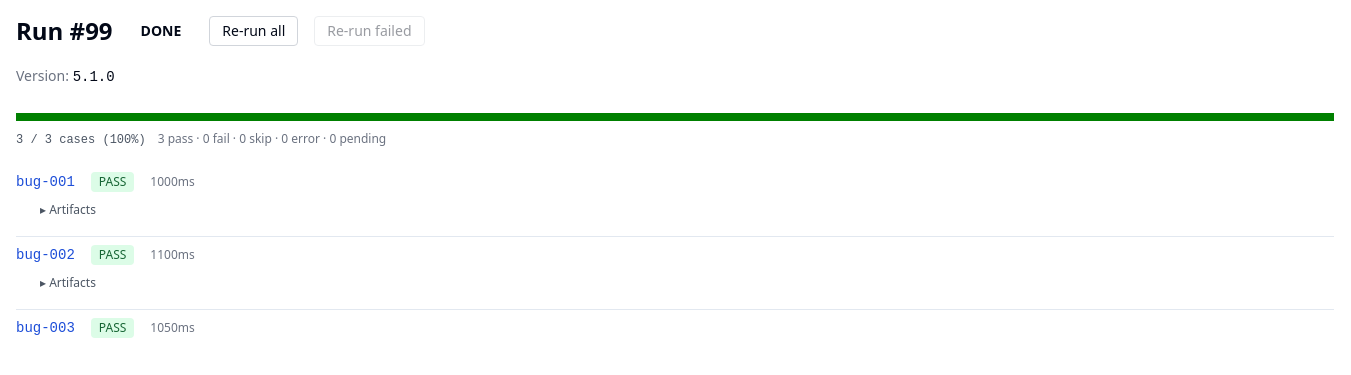
Scenario: RunDetailPage › empty artifacts list renders the empty hint
This screenshot has width=1351, height=375.
Click the button with test id "artifacts-toggle-bug-001" at {"x": 68, "y": 210}, box [40,202,96,218]
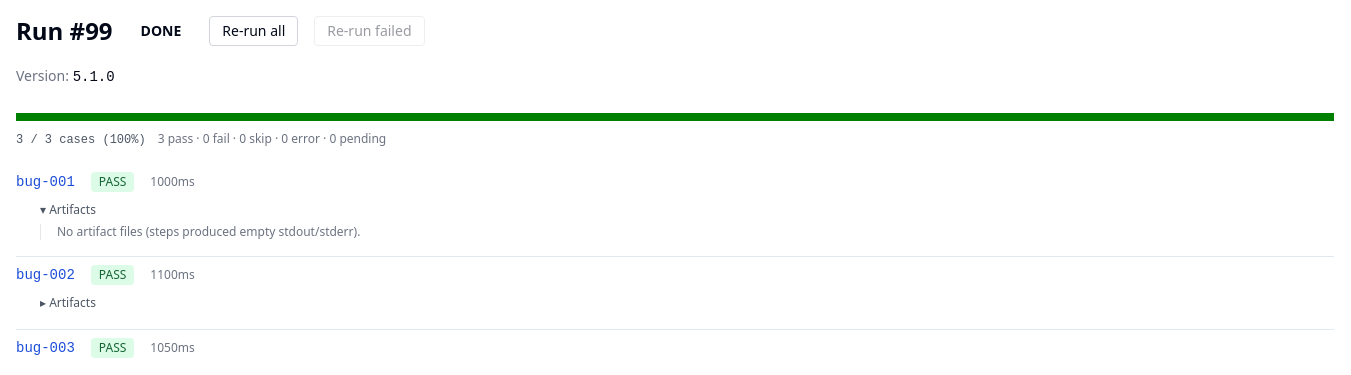
expect the text "No artifact files (steps produced empty stdout/stderr)." is shown: met, box [57,223,360,240]
